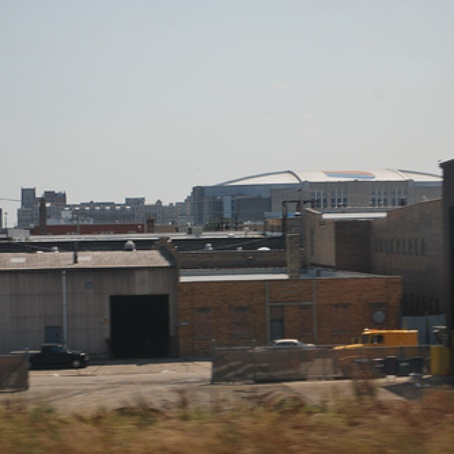building: (175, 269, 406, 358), (1, 251, 170, 359), (195, 165, 454, 229), (370, 195, 454, 320), (6, 192, 189, 229), (311, 208, 380, 274)
car: (15, 340, 92, 372)
sky: (1, 1, 450, 167)
